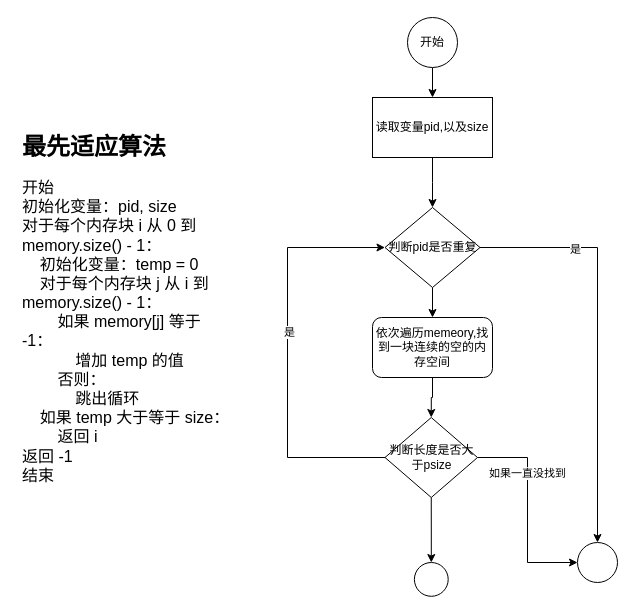
The diagram is 635 pixels wide and 614 high, and some of its shapes have lost their labels. The shapes that lost their labels are listed below. From the top down, each one's centre as x and y in pixels, then its label:
At pixel 430 579: "成功".
At pixel 597 562: "失败".
